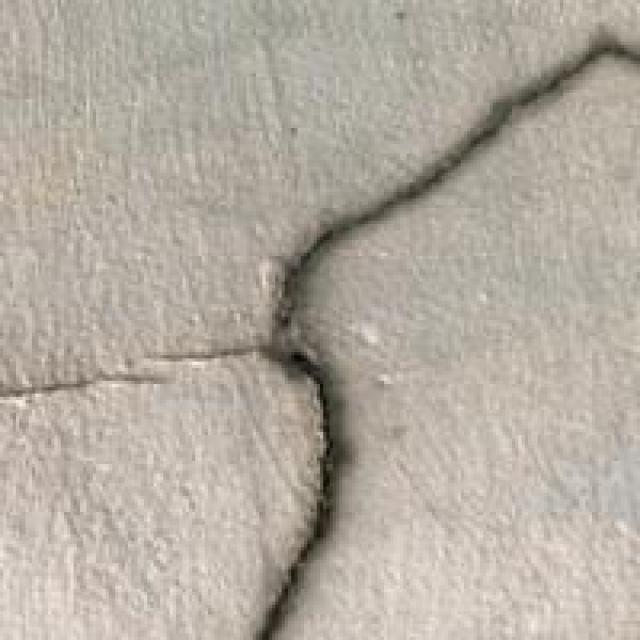Crack: (198, 19, 637, 637)
